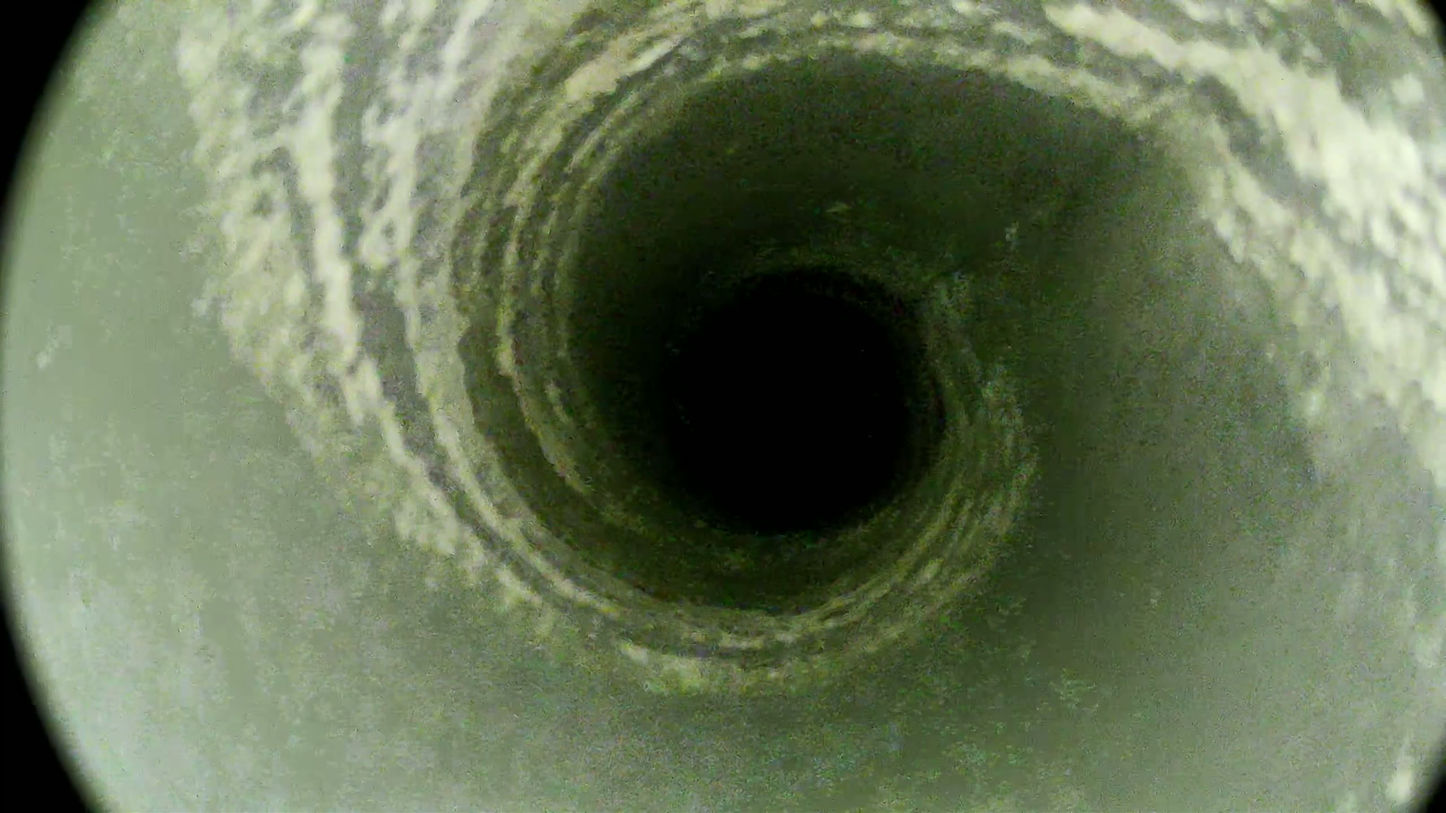hole: (673, 294, 905, 529)
